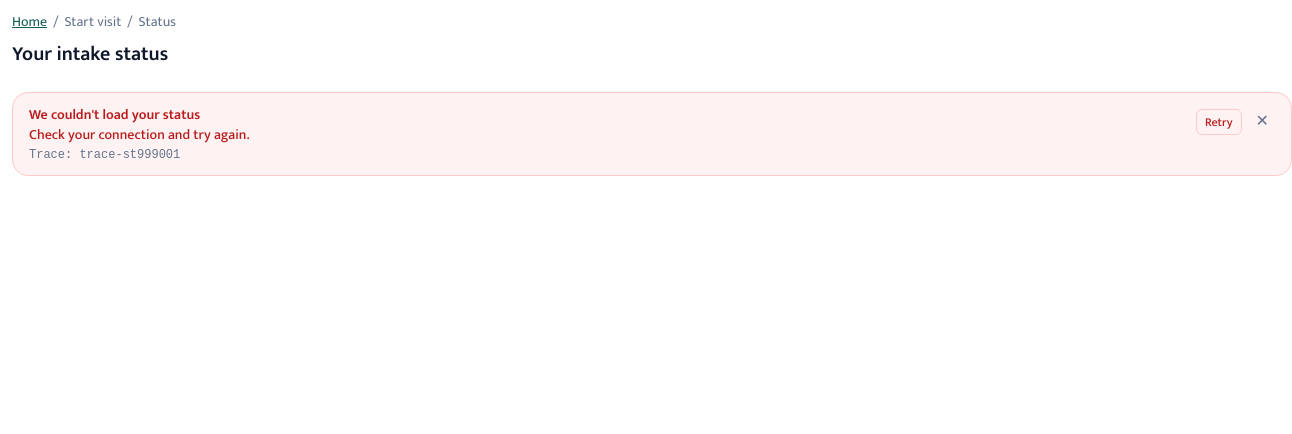
IntakeStatusPage failure › shows a trace-id error banner when the intake fails to load, and retries
Check: the message with test id "error-banner" shows "We couldn't load your status", box x1=29 y1=103 x2=200 y2=126
Check: the text with test id "error-banner-trace-id" shows "trace-st999001", box x1=79 y1=148 x2=180 y2=162
Click the button with test id "error-banner-retry" at (1219, 122), box x1=1196 y1=109 x2=1242 y2=135
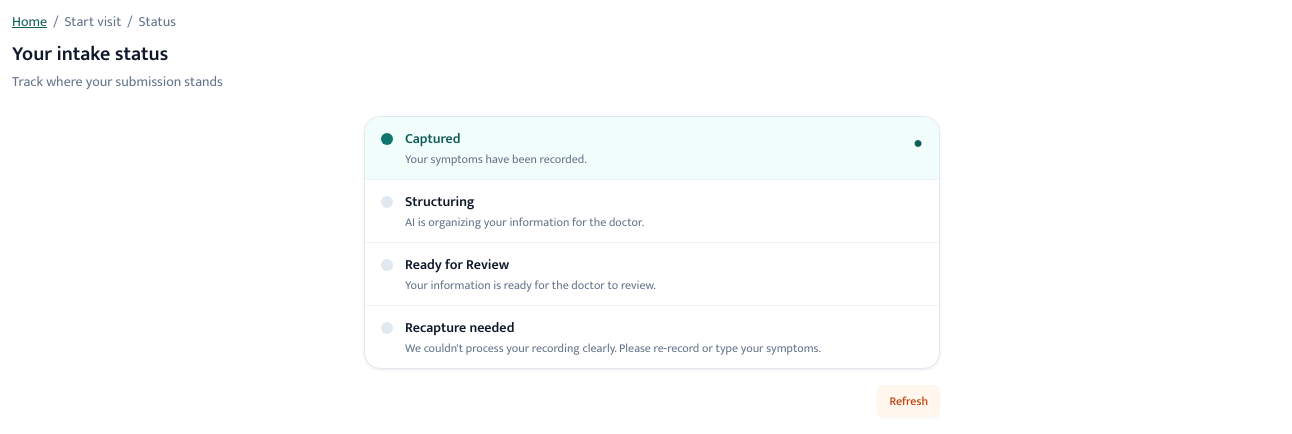
Check: the element with test id "status-list" is shown, box x1=364 y1=116 x2=940 y2=369
